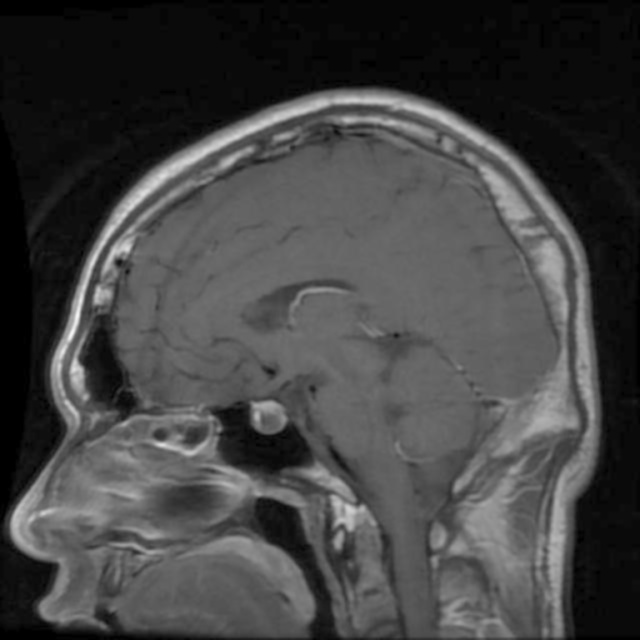no tumor: (246, 398, 295, 450)
